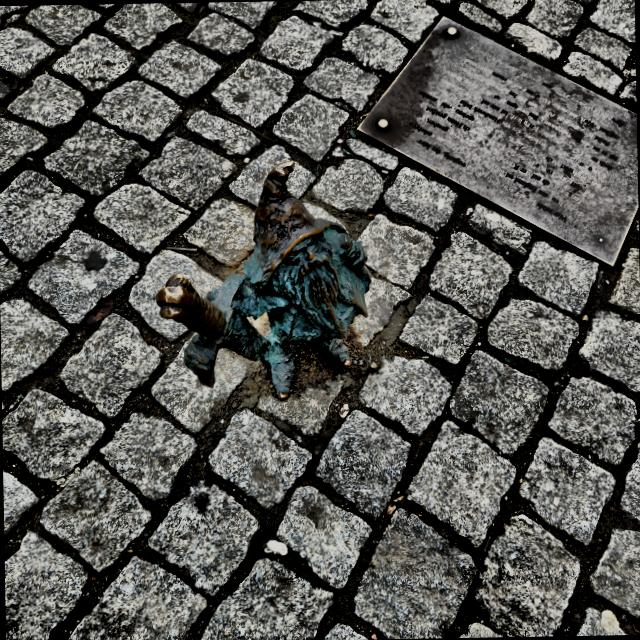Giermek_Grun-Waldek: (155, 161, 372, 400)
